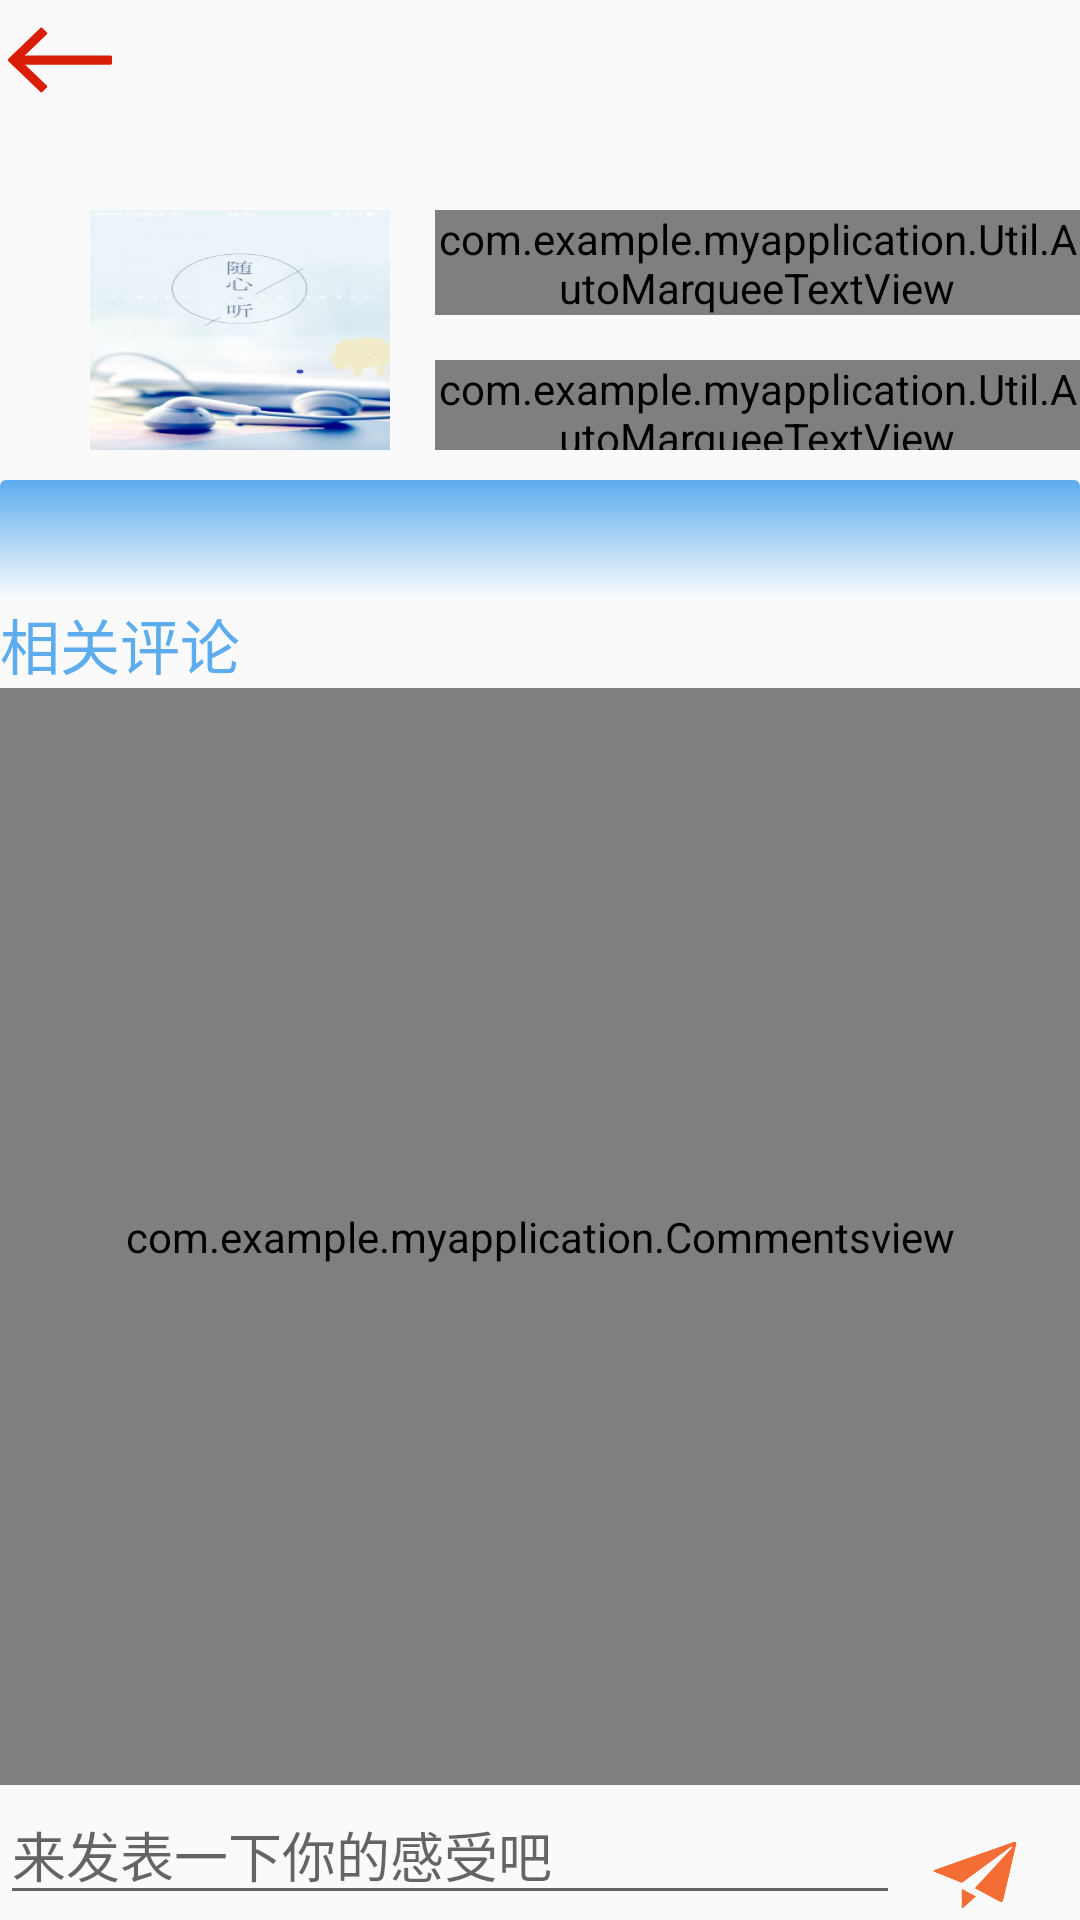

Icon click points for this 1080w x 1920h phone screenshot, format (x,y):
back: (60,60)
